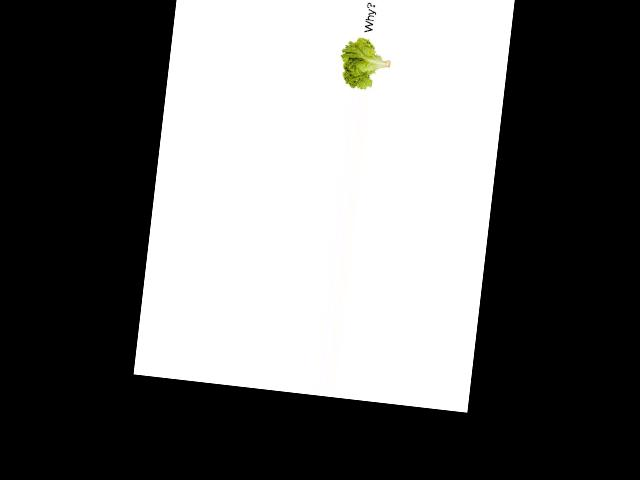lettuce: (337, 30, 394, 93)
